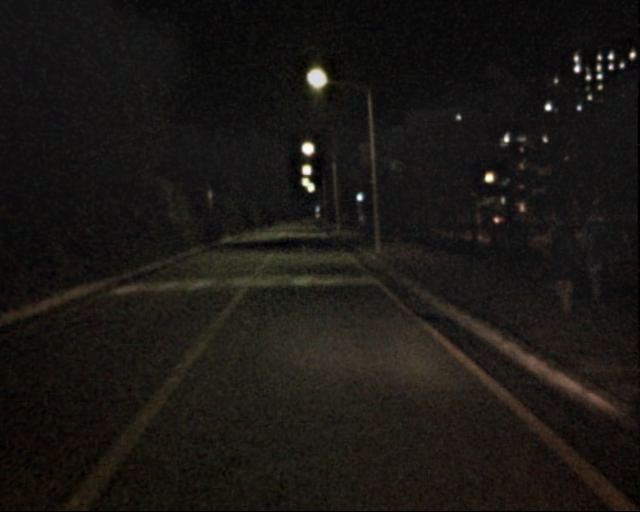person: (544, 211, 591, 321), (574, 207, 620, 316)
